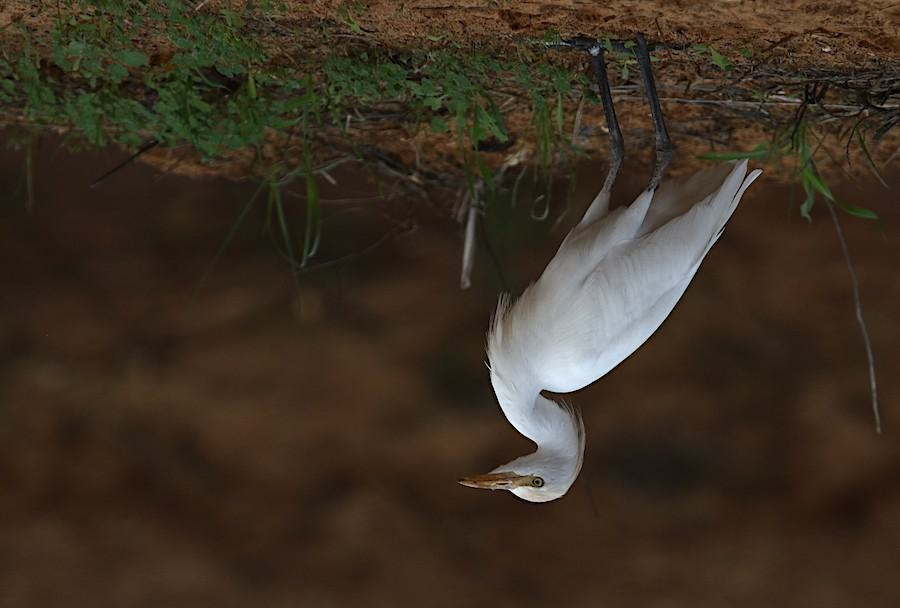egret: (445, 27, 755, 503)
